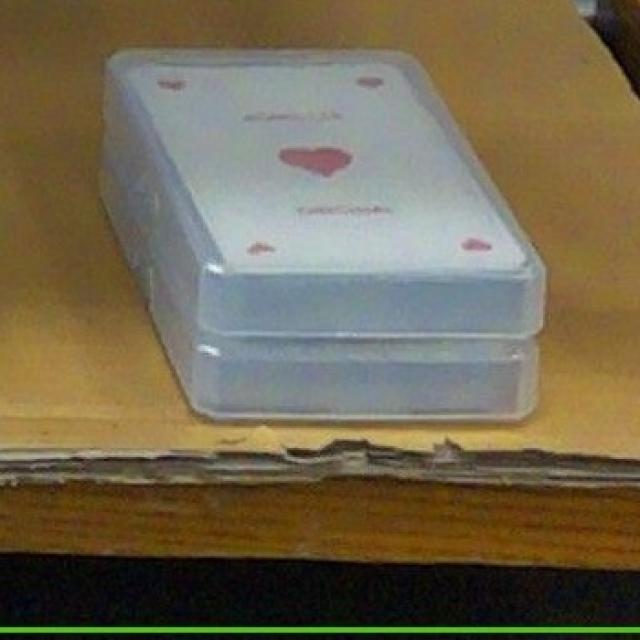Jasskarte: (101, 47, 546, 337), (100, 138, 541, 420)
